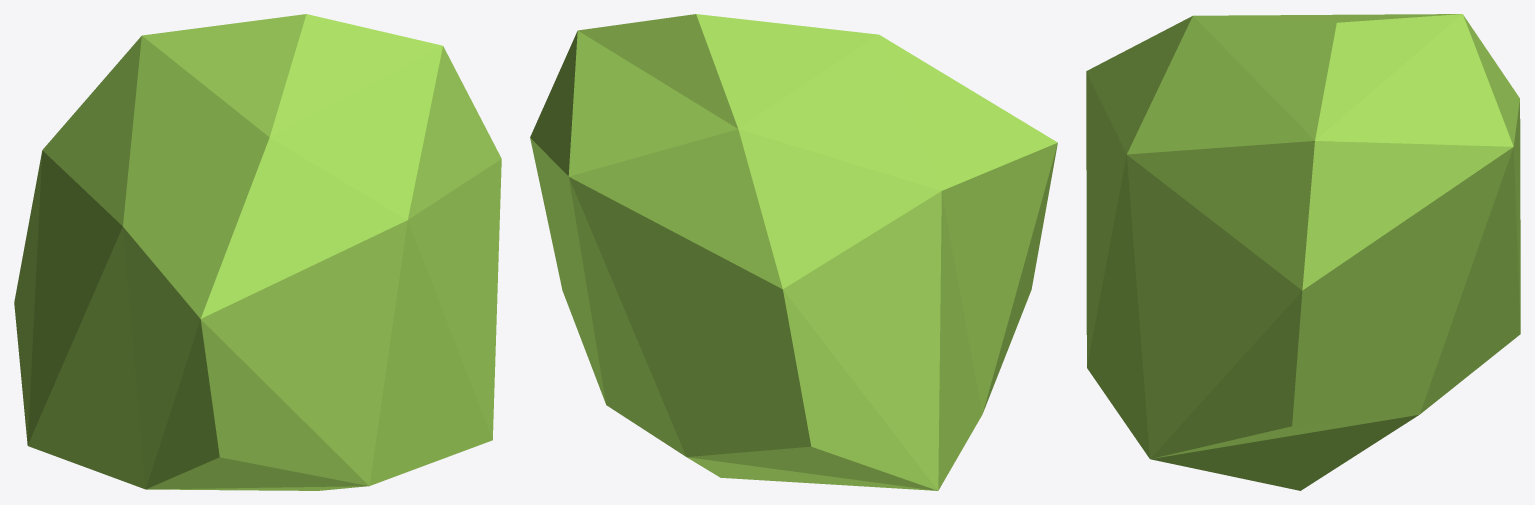
The model's file is Yucca2_leaves.fbx.
The picture shows the model from 3 angles, left to right: view 1: azimuth 30°, elevation 25°; view 2: azimuth 150°, elevation 25°; view 3: azimuth 270°, elevation 25°; orthographic projection. The views are drawn at different scales.
Parts seen in each view (by area): view 1: GeoSphere1; view 2: GeoSphere1; view 3: GeoSphere1.
Boxes of the visible parts, bbox=[...] form: GeoSphere1: bbox=[14, 14, 501, 490]; GeoSphere1: bbox=[530, 14, 1057, 490]; GeoSphere1: bbox=[1086, 14, 1520, 490].
Size of the model in its own units: 97.15 by 98.58 by 82.36.
